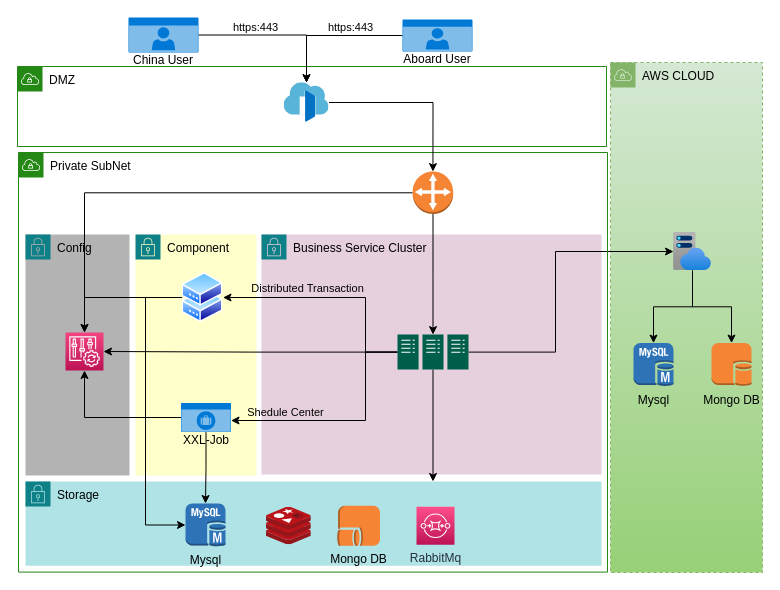
Image size: 780x590. Some labels were removed from this diagram. Each missing label, with the centre of its shape:
"fssp、flowable..." belongs at pixel 432 351.
"Gateway" belongs at pixel 432 192.
"Nacos" belongs at pixel 84 351.
"Nginx" belongs at pixel 306 102.
"Redis" belongs at pixel 288 525.
"Seata" belongs at pixel 202 297.
"security" belongs at pixel 692 251.
